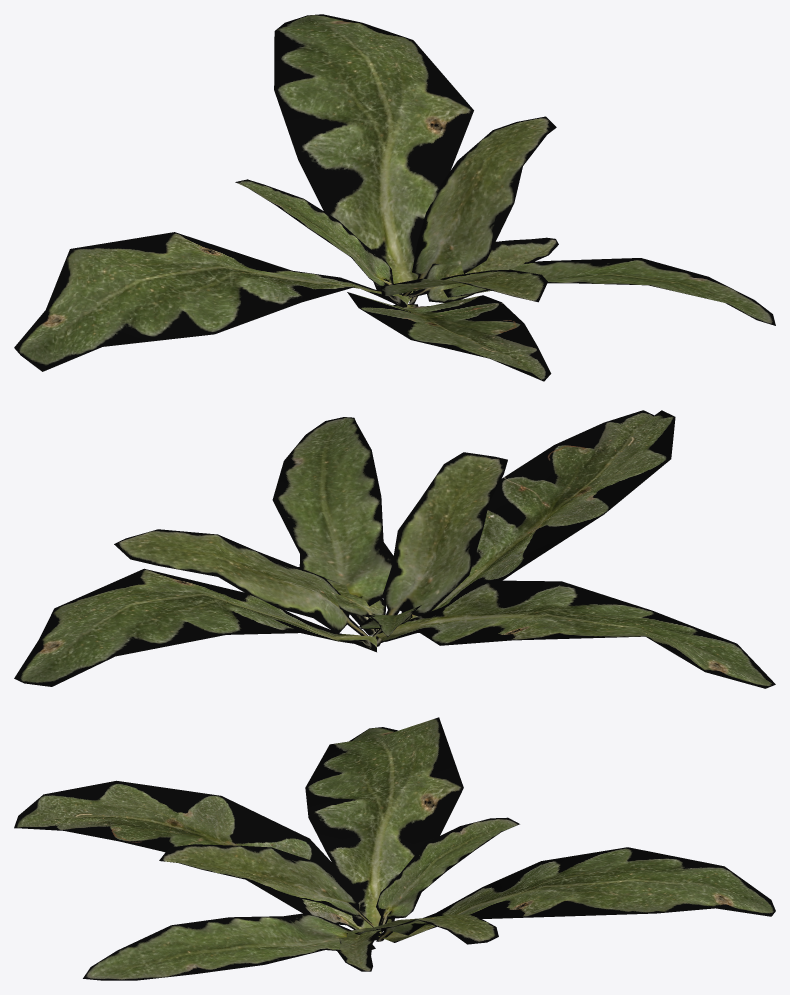
Rendered from nama_gazania_b.glb.
3 views of the same model, one above another, from view 1: azimuth 30°, elevation 25°; view 2: azimuth 150°, elevation 25°; view 3: azimuth 270°, elevation 25° (orthographic). The views are drawn at different scales.
Visible parts, largest first — view 1: nama_gazania_b; view 2: nama_gazania_b; view 3: nama_gazania_b.
Part boxes in pixels (left/top/right/bottom): nama_gazania_b: left=14, top=14, right=775, bottom=381; nama_gazania_b: left=14, top=410, right=775, bottom=688; nama_gazania_b: left=14, top=717, right=775, bottom=980.
Size of the model in its own units: 0.6448 by 0.1224 by 0.8051.
Materials: 1 (1 with a texture image).
